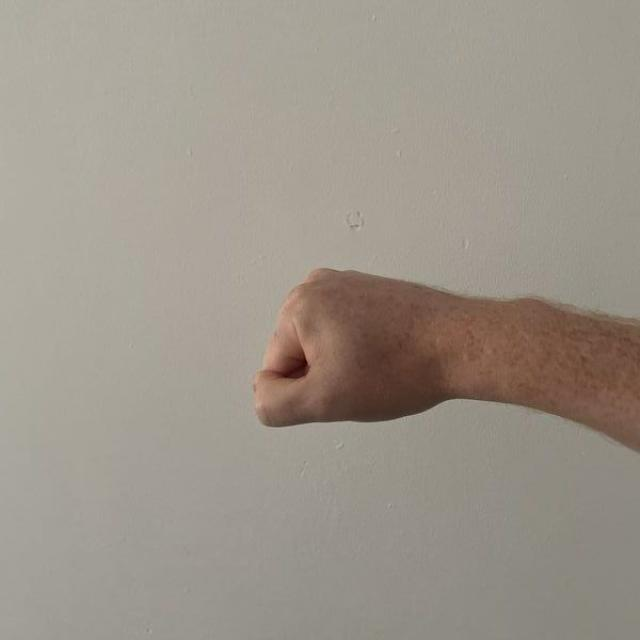rock: (249, 260, 450, 432)
